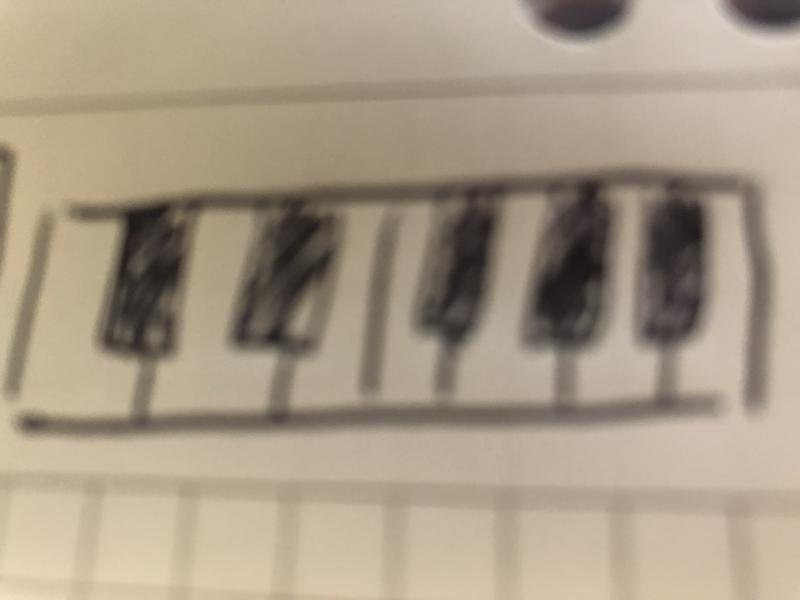piano: (6, 168, 774, 431)
